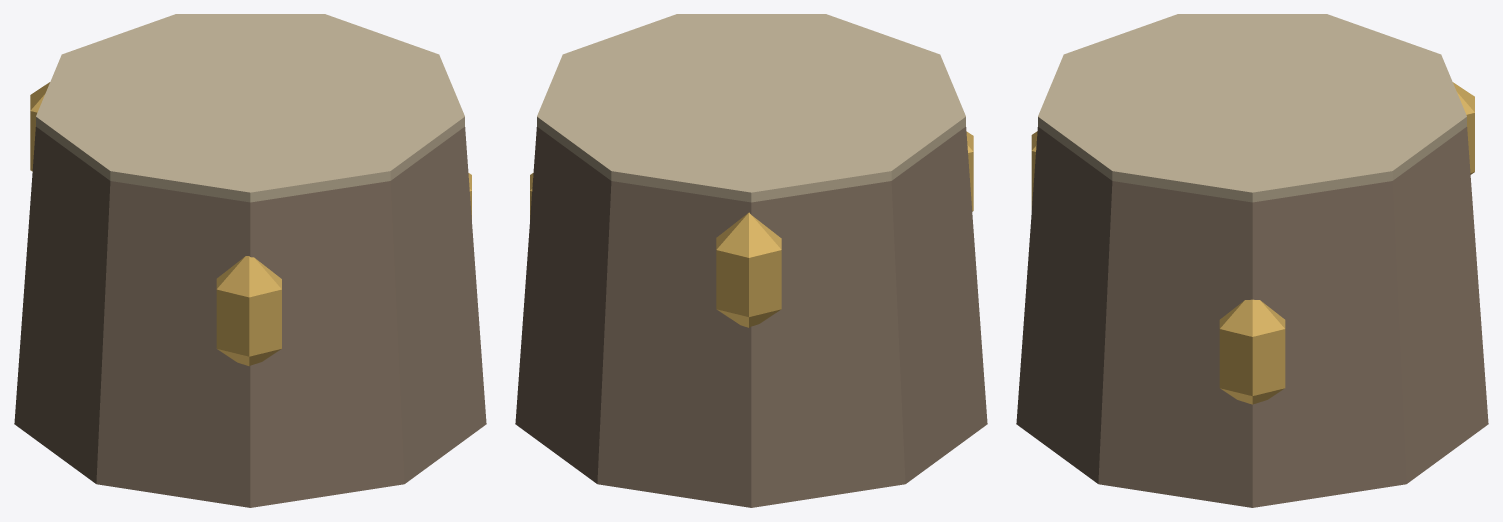
File: resin_stump.glb
3 views of the same model, side by side, from view 1: azimuth 30°, elevation 25°; view 2: azimuth 150°, elevation 25°; view 3: azimuth 270°, elevation 25° (orthographic).
Visible parts, largest first — view 1: ../props/resin_stump; view 2: ../props/resin_stump; view 3: ../props/resin_stump.
Part boxes in pixels (x1,y1,x2,y2): ../props/resin_stump: (14,14,486,507); ../props/resin_stump: (515,14,987,507); ../props/resin_stump: (1016,14,1488,507).
Bounding box in the file's own units: 0.4414 × 0.31 × 0.4333.
